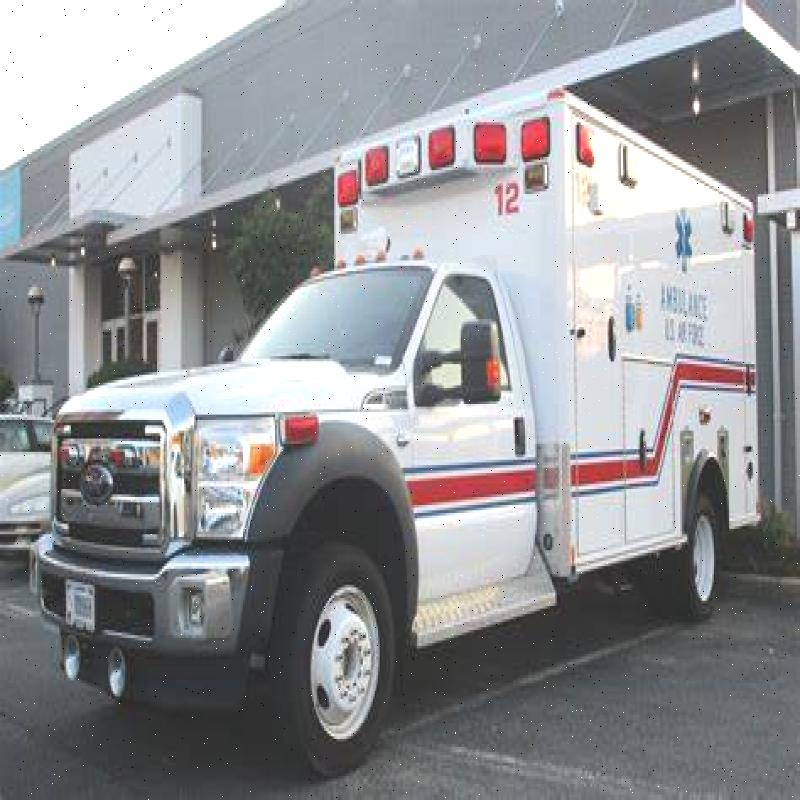AmbulanceSiren: (323, 87, 550, 236)
